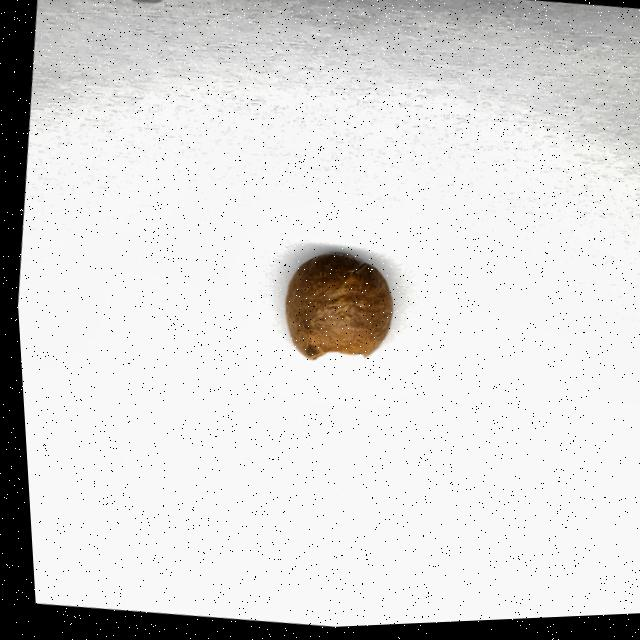Broken: (276, 252, 394, 371)
